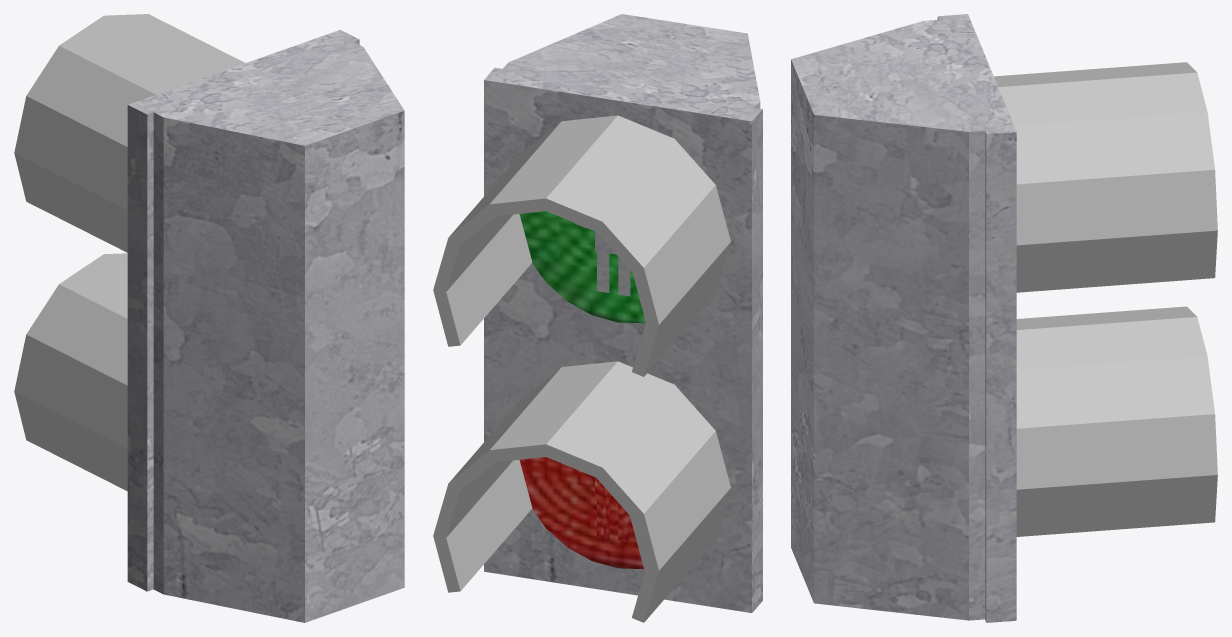
Rendered from Traffic_Light_1.fbx.
3 renders of one model, left to right at view 1: azimuth 30°, elevation 25°; view 2: azimuth 150°, elevation 25°; view 3: azimuth 270°, elevation 25°, orthographic. The views are drawn at different scales.
Visible parts, largest first — view 1: Component_1_1; view 2: Component_1_1; view 3: Component_1_1.
Part boxes in pixels (<box>): Component_1_1: <box>14,14,404,622</box>; Component_1_1: <box>433,14,762,622</box>; Component_1_1: <box>791,14,1217,622</box>.
Bounding box in the file's own units: 0.2225 × 0.4018 × 0.3181.
